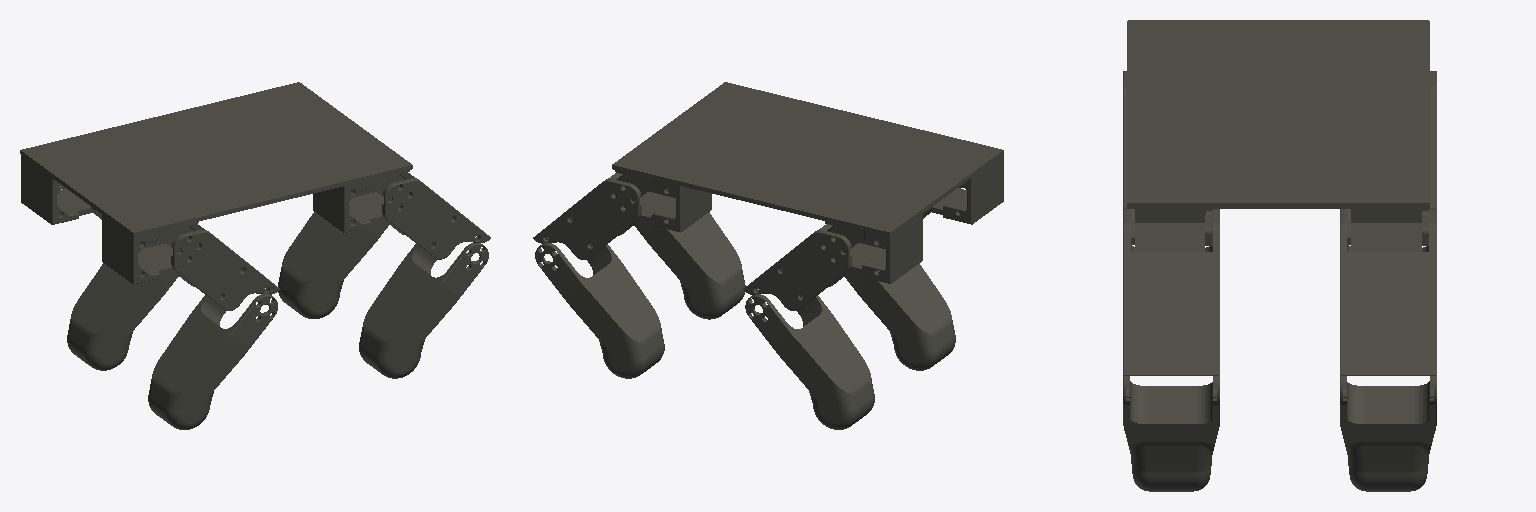
URDF robot description (quady):
<?xml version="1.0"?>
<robot name="quady">
  <!--
    Initial Quady URDF generated from the Fusion assembly on 2026-06-15.
    Coordinate frame: X forward, Y left, Z up.
    Visual meshes were exported from Fusion as assembly-positioned STL files in millimeters.
    Mesh scale converts millimeters to meters.
    Collision geometry intentionally uses simplified primitive boxes for stable simulation.
    Joint axes and origins come from Isaac Software/notes/link_joint_table.md.
  -->

  <material name="dark_gray">
    <color rgba="0.35 0.35 0.32 1.0"/>
  </material>

  <link name="base_body">
    <inertial>
      <origin xyz="-0.114966 0.040271 0.001584" rpy="0 0 0"/>
      <mass value="0.500"/>
      <inertia ixx="0.0020" ixy="0" ixz="0" iyy="0.0040" iyz="0" izz="0.0040"/>
    </inertial>
    <visual>
      <origin xyz="0 0 0" rpy="0 0 0"/>
      <geometry>
        <mesh filename="../meshes/visual/base_body.stl" scale="0.001 0.001 0.001"/>
      </geometry>
      <material name="dark_gray"/>
    </visual>
    <collision>
      <origin xyz="-0.114966 0.040271 0.001584" rpy="0 0 0"/>
      <geometry>
        <box size="0.195000 0.135000 0.030000"/>
      </geometry>
    </collision>
  </link>

  <link name="front_left_upper_leg">
    <inertial>
      <origin xyz="0.027049 0.000000 -0.019913" rpy="0 0 0"/>
      <mass value="0.080"/>
      <inertia ixx="0.00015" ixy="0" ixz="0" iyy="0.00020" iyz="0" izz="0.00012"/>
    </inertial>
    <visual>
      <origin xyz="0.025500 -0.090975 0.000000" rpy="0 0 0"/>
      <geometry>
        <mesh filename="../meshes/visual/front_left_upper_leg.stl" scale="0.001 0.001 0.001"/>
      </geometry>
      <material name="dark_gray"/>
    </visual>
    <collision>
      <origin xyz="0.027000 0.000000 -0.020000" rpy="0 0 0"/>
      <geometry>
        <box size="0.070000 0.030000 0.050000"/>
      </geometry>
    </collision>
  </link>

  <link name="front_left_lower_leg">
    <inertial>
      <origin xyz="-0.027118 0.000000 -0.032596" rpy="0 0 0"/>
      <mass value="0.080"/>
      <inertia ixx="0.00018" ixy="0" ixz="0" iyy="0.00022" iyz="0" izz="0.00010"/>
    </inertial>
    <visual>
      <origin xyz="-0.028382 -0.090975 0.053882" rpy="0 0 0"/>
      <geometry>
        <mesh filename="../meshes/visual/front_left_lower_leg.stl" scale="0.001 0.001 0.001"/>
      </geometry>
      <material name="dark_gray"/>
    </visual>
    <collision>
      <origin xyz="-0.027000 0.000000 -0.033000" rpy="0 0 0"/>
      <geometry>
        <box size="0.055000 0.030000 0.075000"/>
      </geometry>
    </collision>
  </link>

  <link name="front_right_upper_leg">
    <inertial>
      <origin xyz="0.027049 0.000000 -0.019913" rpy="0 0 0"/>
      <mass value="0.080"/>
      <inertia ixx="0.00015" ixy="0" ixz="0" iyy="0.00020" iyz="0" izz="0.00012"/>
    </inertial>
    <visual>
      <origin xyz="0.025500 0.009025 0.000000" rpy="0 0 0"/>
      <geometry>
        <mesh filename="../meshes/visual/front_right_upper_leg.stl" scale="0.001 0.001 0.001"/>
      </geometry>
      <material name="dark_gray"/>
    </visual>
    <collision>
      <origin xyz="0.027000 0.000000 -0.020000" rpy="0 0 0"/>
      <geometry>
        <box size="0.070000 0.030000 0.050000"/>
      </geometry>
    </collision>
  </link>

  <link name="front_right_lower_leg">
    <inertial>
      <origin xyz="-0.027118 0.000000 -0.032596" rpy="0 0 0"/>
      <mass value="0.080"/>
      <inertia ixx="0.00018" ixy="0" ixz="0" iyy="0.00022" iyz="0" izz="0.00010"/>
    </inertial>
    <visual>
      <origin xyz="-0.028382 0.009025 0.053882" rpy="0 0 0"/>
      <geometry>
        <mesh filename="../meshes/visual/front_right_lower_leg.stl" scale="0.001 0.001 0.001"/>
      </geometry>
      <material name="dark_gray"/>
    </visual>
    <collision>
      <origin xyz="-0.027000 0.000000 -0.033000" rpy="0 0 0"/>
      <geometry>
        <box size="0.055000 0.030000 0.075000"/>
      </geometry>
    </collision>
  </link>

  <link name="rear_left_upper_leg">
    <inertial>
      <origin xyz="0.027049 0.000000 -0.019913" rpy="0 0 0"/>
      <mass value="0.080"/>
      <inertia ixx="0.00015" ixy="0" ixz="0" iyy="0.00020" iyz="0" izz="0.00012"/>
    </inertial>
    <visual>
      <origin xyz="0.175500 -0.090975 0.000000" rpy="0 0 0"/>
      <geometry>
        <mesh filename="../meshes/visual/rear_left_upper_leg.stl" scale="0.001 0.001 0.001"/>
      </geometry>
      <material name="dark_gray"/>
    </visual>
    <collision>
      <origin xyz="0.027000 0.000000 -0.020000" rpy="0 0 0"/>
      <geometry>
        <box size="0.070000 0.030000 0.050000"/>
      </geometry>
    </collision>
  </link>

  <link name="rear_left_lower_leg">
    <inertial>
      <origin xyz="-0.027118 0.000000 -0.032596" rpy="0 0 0"/>
      <mass value="0.080"/>
      <inertia ixx="0.00018" ixy="0" ixz="0" iyy="0.00022" iyz="0" izz="0.00010"/>
    </inertial>
    <visual>
      <origin xyz="0.121618 -0.090975 0.053882" rpy="0 0 0"/>
      <geometry>
        <mesh filename="../meshes/visual/rear_left_lower_leg.stl" scale="0.001 0.001 0.001"/>
      </geometry>
      <material name="dark_gray"/>
    </visual>
    <collision>
      <origin xyz="-0.027000 0.000000 -0.033000" rpy="0 0 0"/>
      <geometry>
        <box size="0.055000 0.030000 0.075000"/>
      </geometry>
    </collision>
  </link>

  <link name="rear_right_upper_leg">
    <inertial>
      <origin xyz="0.027049 0.000000 -0.019913" rpy="0 0 0"/>
      <mass value="0.080"/>
      <inertia ixx="0.00015" ixy="0" ixz="0" iyy="0.00020" iyz="0" izz="0.00012"/>
    </inertial>
    <visual>
      <origin xyz="0.175500 0.009025 0.000000" rpy="0 0 0"/>
      <geometry>
        <mesh filename="../meshes/visual/rear_right_upper_leg.stl" scale="0.001 0.001 0.001"/>
      </geometry>
      <material name="dark_gray"/>
    </visual>
    <collision>
      <origin xyz="0.027000 0.000000 -0.020000" rpy="0 0 0"/>
      <geometry>
        <box size="0.070000 0.030000 0.050000"/>
      </geometry>
    </collision>
  </link>

  <link name="rear_right_lower_leg">
    <inertial>
      <origin xyz="-0.027118 0.000000 -0.032596" rpy="0 0 0"/>
      <mass value="0.080"/>
      <inertia ixx="0.00018" ixy="0" ixz="0" iyy="0.00022" iyz="0" izz="0.00010"/>
    </inertial>
    <visual>
      <origin xyz="0.121618 0.009025 0.053882" rpy="0 0 0"/>
      <geometry>
        <mesh filename="../meshes/visual/rear_right_lower_leg.stl" scale="0.001 0.001 0.001"/>
      </geometry>
      <material name="dark_gray"/>
    </visual>
    <collision>
      <origin xyz="-0.027000 0.000000 -0.033000" rpy="0 0 0"/>
      <geometry>
        <box size="0.055000 0.030000 0.075000"/>
      </geometry>
    </collision>
  </link>

  <joint name="front_left_hip_pitch" type="revolute">
    <parent link="base_body"/>
    <child link="front_left_upper_leg"/>
    <origin xyz="-0.025500 0.090975 0.000000" rpy="0 0 0"/>
    <axis xyz="0 1 0"/>
    <limit lower="0.0000" upper="0.7854" effort="3.0" velocity="5.0"/>
  </joint>

  <joint name="front_left_knee_pitch" type="revolute">
    <parent link="front_left_upper_leg"/>
    <child link="front_left_lower_leg"/>
    <origin xyz="0.053882 0.000000 -0.053882" rpy="0 0 0"/>
    <axis xyz="0 1 0"/>
    <limit lower="-1.5708" upper="0.6981" effort="3.0" velocity="5.0"/>
  </joint>

  <joint name="front_right_hip_pitch" type="revolute">
    <parent link="base_body"/>
    <child link="front_right_upper_leg"/>
    <origin xyz="-0.025500 -0.009025 0.000000" rpy="0 0 0"/>
    <axis xyz="0 1 0"/>
    <limit lower="0.0000" upper="0.7854" effort="3.0" velocity="5.0"/>
  </joint>

  <joint name="front_right_knee_pitch" type="revolute">
    <parent link="front_right_upper_leg"/>
    <child link="front_right_lower_leg"/>
    <origin xyz="0.053882 0.000000 -0.053882" rpy="0 0 0"/>
    <axis xyz="0 1 0"/>
    <limit lower="-1.5708" upper="0.6981" effort="3.0" velocity="5.0"/>
  </joint>

  <joint name="rear_left_hip_pitch" type="revolute">
    <parent link="base_body"/>
    <child link="rear_left_upper_leg"/>
    <origin xyz="-0.175500 0.090975 0.000000" rpy="0 0 0"/>
    <axis xyz="0 1 0"/>
    <limit lower="0.0000" upper="0.7854" effort="3.0" velocity="5.0"/>
  </joint>

  <joint name="rear_left_knee_pitch" type="revolute">
    <parent link="rear_left_upper_leg"/>
    <child link="rear_left_lower_leg"/>
    <origin xyz="0.053882 0.000000 -0.053882" rpy="0 0 0"/>
    <axis xyz="0 1 0"/>
    <limit lower="-1.5708" upper="0.6981" effort="3.0" velocity="5.0"/>
  </joint>

  <joint name="rear_right_hip_pitch" type="revolute">
    <parent link="base_body"/>
    <child link="rear_right_upper_leg"/>
    <origin xyz="-0.175500 -0.009025 0.000000" rpy="0 0 0"/>
    <axis xyz="0 1 0"/>
    <limit lower="0.0000" upper="0.7854" effort="3.0" velocity="5.0"/>
  </joint>

  <joint name="rear_right_knee_pitch" type="revolute">
    <parent link="rear_right_upper_leg"/>
    <child link="rear_right_lower_leg"/>
    <origin xyz="0.053882 0.000000 -0.053882" rpy="0 0 0"/>
    <axis xyz="0 1 0"/>
    <limit lower="-1.5708" upper="0.6981" effort="3.0" velocity="5.0"/>
  </joint>
</robot>

--- Facts derived from the render (not from the file) ---
3 views of the same robot in one strip: view 1: azimuth 30°, elevation 25°; view 2: azimuth 150°, elevation 25°; view 3: azimuth 270°, elevation 25° (orthographic).
Model quady with 9 links and 8 joints (8 revolute), rooted at base_body, posed all joints at 0.
Visible links, largest first — view 1: base_body, rear_right_lower_leg, front_right_lower_leg, rear_left_lower_leg, front_left_lower_leg, rear_right_upper_leg, front_right_upper_leg; view 2: base_body, front_left_lower_leg, rear_left_lower_leg, front_right_lower_leg, rear_right_lower_leg, front_left_upper_leg, rear_left_upper_leg; view 3: base_body, front_left_upper_leg, front_right_upper_leg, front_left_lower_leg, front_right_lower_leg, rear_left_upper_leg, rear_right_upper_leg.
Boxes of the visible links, bbox=[...] form: base_body: bbox=[20, 82, 412, 284]; rear_right_lower_leg: bbox=[148, 294, 277, 429]; front_right_lower_leg: bbox=[359, 243, 488, 378]; rear_left_lower_leg: bbox=[67, 263, 178, 370]; front_left_lower_leg: bbox=[278, 212, 388, 318]; rear_right_upper_leg: bbox=[140, 224, 280, 310]; front_right_upper_leg: bbox=[354, 172, 490, 259]; base_body: bbox=[612, 82, 1003, 283]; front_left_lower_leg: bbox=[535, 243, 664, 378]; rear_left_lower_leg: bbox=[745, 294, 874, 429]; front_right_lower_leg: bbox=[634, 197, 745, 319]; rear_right_lower_leg: bbox=[844, 248, 955, 370]; front_left_upper_leg: bbox=[533, 173, 669, 259]; rear_left_upper_leg: bbox=[743, 224, 880, 310]; base_body: bbox=[1127, 20, 1429, 251]; front_left_upper_leg: bbox=[1340, 208, 1436, 375]; front_right_upper_leg: bbox=[1123, 208, 1219, 375]; front_left_lower_leg: bbox=[1340, 375, 1436, 491]; front_right_lower_leg: bbox=[1123, 375, 1219, 491]; rear_left_upper_leg: bbox=[1430, 71, 1436, 208]; rear_right_upper_leg: bbox=[1123, 71, 1126, 208].
Size in the robot's own frame: 0.254 by 0.1449 by 0.1477 metres.
9 mesh visuals loaded from 9 distinct referenced files (9 binary STL).
